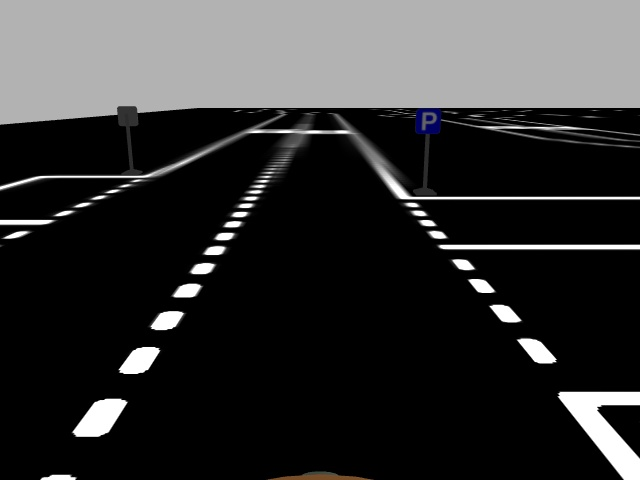parking: (414, 106, 441, 133)
